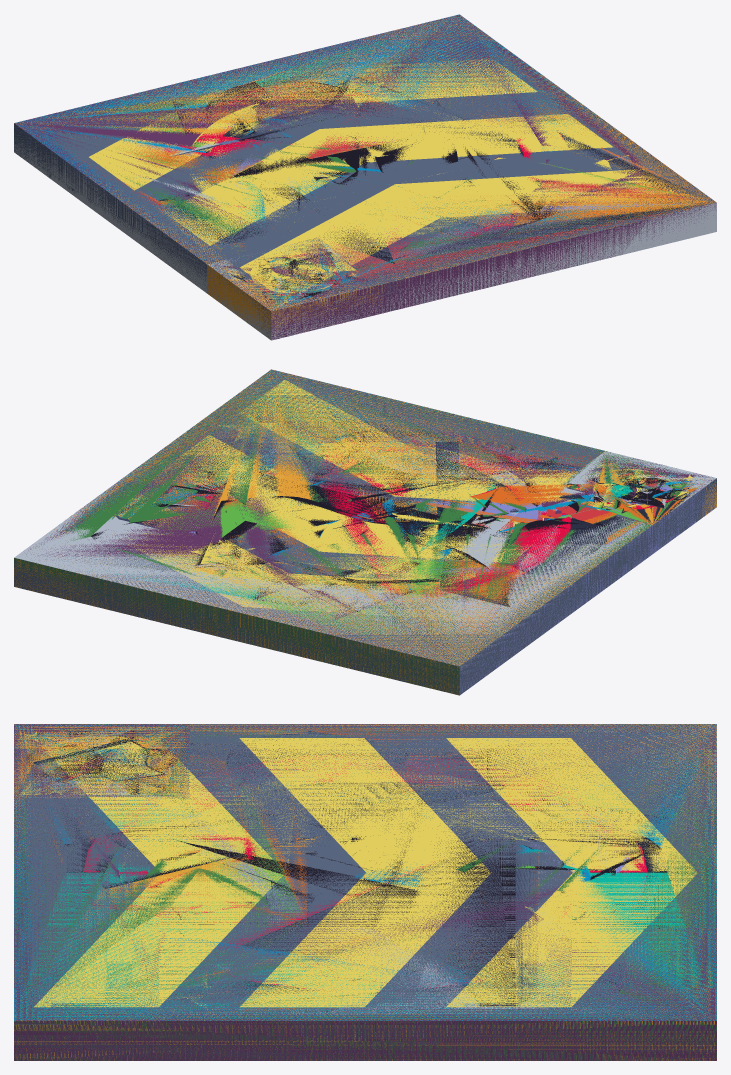
Rendered from zones.glb.
3 renders of one model, top to bottom at view 1: azimuth 30°, elevation 25°; view 2: azimuth 150°, elevation 25°; view 3: azimuth 270°, elevation 25°, orthographic. The views are drawn at different scales.
Visible parts, largest first — view 1: 1BoostBig, 4LowGravBig, 2CheckpointBig, 5HighGravBig, 6SlipBig, 8EngineOffBig, 9NoWallrideForceBig, 10HighWallrideForceBig, 7GripBig, 2Checkpoint, 12HalfSlipBig, 4LowGrav (+7 smaller); view 2: 1BoostBig, 2CheckpointBig, 7GripBig, 5HighGravBig, 4LowGravBig, 8EngineOffBig, 9NoWallrideForceBig, 13AirControlBig, 11NegativeWallrideForceBig, 6SlipBig, 5HighGrav, 10HighWallrideForceBig (+8 smaller); view 3: 1BoostBig, 4LowGravBig, 7GripBig, 12HalfSlipBig, 6SlipBig, 5HighGravBig, 2CheckpointBig, 2Checkpoint, 8EngineOffBig, 4LowGrav, 11NegativeWallrideForceBig, 9NoWallrideForceBig (+7 smaller).
Part boxes in pixels (left/top/right/bottom): 1BoostBig: left=14, top=16, right=716, bottom=319; 4LowGravBig: left=15, top=14, right=715, bottom=339; 2CheckpointBig: left=14, top=16, right=716, bottom=331; 5HighGravBig: left=14, top=16, right=716, bottom=340; 6SlipBig: left=16, top=15, right=618, bottom=310; 8EngineOffBig: left=85, top=30, right=714, bottom=308; 9NoWallrideForceBig: left=42, top=30, right=712, bottom=305; 10HighWallrideForceBig: left=77, top=30, right=705, bottom=307; 7GripBig: left=35, top=19, right=633, bottom=287; 2Checkpoint: left=207, top=237, right=382, bottom=337; 12HalfSlipBig: left=24, top=15, right=595, bottom=298; 4LowGrav: left=215, top=239, right=382, bottom=336; 1BoostBig: left=14, top=369, right=716, bottom=695; 2CheckpointBig: left=14, top=370, right=648, bottom=694; 7GripBig: left=14, top=370, right=702, bottom=694; 5HighGravBig: left=14, top=375, right=650, bottom=670; 4LowGravBig: left=26, top=370, right=635, bottom=666; 8EngineOffBig: left=74, top=373, right=646, bottom=665; 9NoWallrideForceBig: left=60, top=376, right=641, bottom=663; 13AirControlBig: left=54, top=374, right=716, bottom=693; 11NegativeWallrideForceBig: left=145, top=372, right=639, bottom=664; 6SlipBig: left=68, top=370, right=617, bottom=611; 5HighGrav: left=557, top=451, right=716, bottom=511; 10HighWallrideForceBig: left=147, top=370, right=638, bottom=661; 1BoostBig: left=14, top=724, right=716, bottom=1060; 4LowGravBig: left=14, top=724, right=716, bottom=1060; 7GripBig: left=14, top=724, right=716, bottom=1060; 12HalfSlipBig: left=15, top=765, right=716, bottom=1020; 6SlipBig: left=14, top=724, right=716, bottom=1020; 5HighGravBig: left=14, top=724, right=716, bottom=1058; 2CheckpointBig: left=14, top=724, right=716, bottom=1060; 2Checkpoint: left=14, top=724, right=189, bottom=798; 8EngineOffBig: left=15, top=724, right=716, bottom=1019; 4LowGrav: left=14, top=724, right=189, bottom=798; 11NegativeWallrideForceBig: left=20, top=724, right=715, bottom=983; 9NoWallrideForceBig: left=16, top=725, right=713, bottom=1017.
Size of the model in its own units: 80 by 5 by 80.
